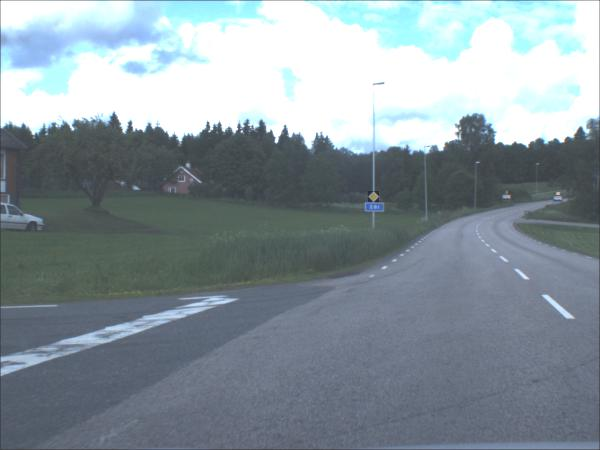80_SIGN: (505, 192, 511, 196), (556, 193, 561, 197)
PRIORITY_ROAD: (368, 192, 380, 204)
